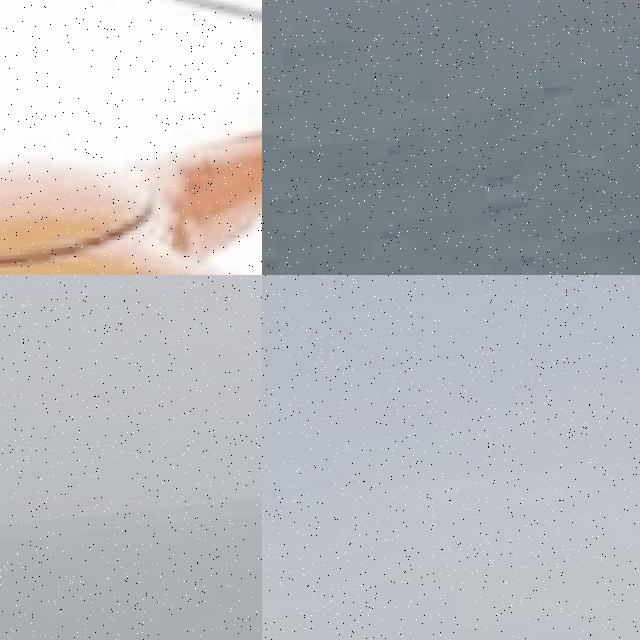drone: (0, 0, 262, 275)
